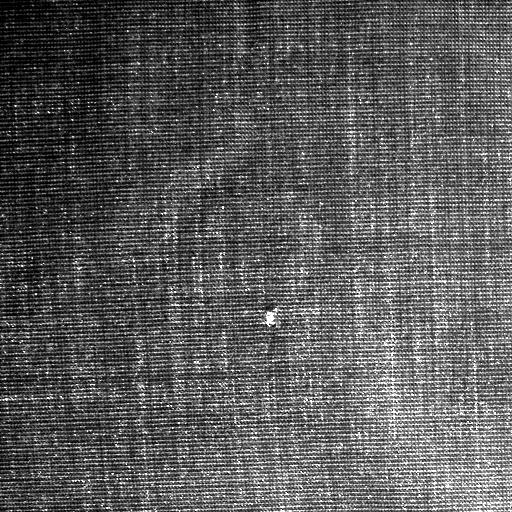fabric_hole: (262, 304, 280, 338)
